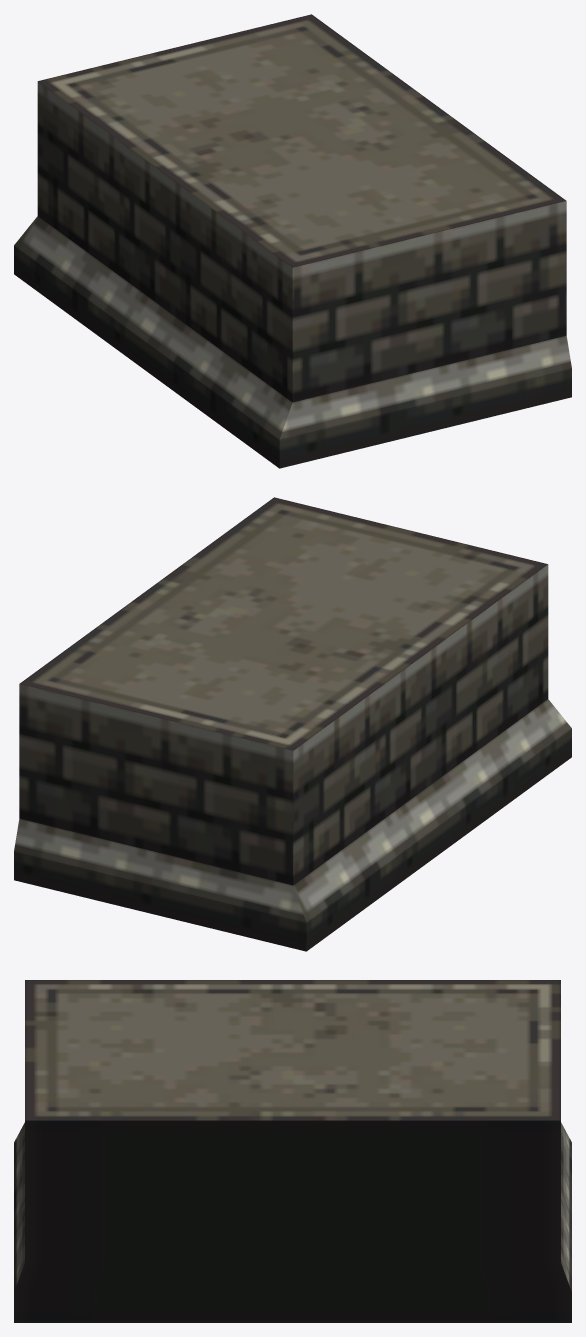
File: EnvBdgMD_City_B_Outdoor_Landing.FBX
The picture shows the model from 3 angles, top to bottom: view 1: azimuth 30°, elevation 25°; view 2: azimuth 150°, elevation 25°; view 3: azimuth 270°, elevation 25°; orthographic projection. The views are drawn at different scales.
Parts seen in each view (by area): view 1: EnvBdgMD_City_B_Outdoor_Landing; view 2: EnvBdgMD_City_B_Outdoor_Landing; view 3: EnvBdgMD_City_B_Outdoor_Landing.
Part boxes in pixels (left/top/right/bottom): EnvBdgMD_City_B_Outdoor_Landing: left=14, top=14, right=571, bottom=468; EnvBdgMD_City_B_Outdoor_Landing: left=14, top=497, right=571, bottom=951; EnvBdgMD_City_B_Outdoor_Landing: left=14, top=980, right=571, bottom=1322.
Bounding box in the file's own units: 159 × 100 × 250.
Materials: 1 (1 with a texture image).
